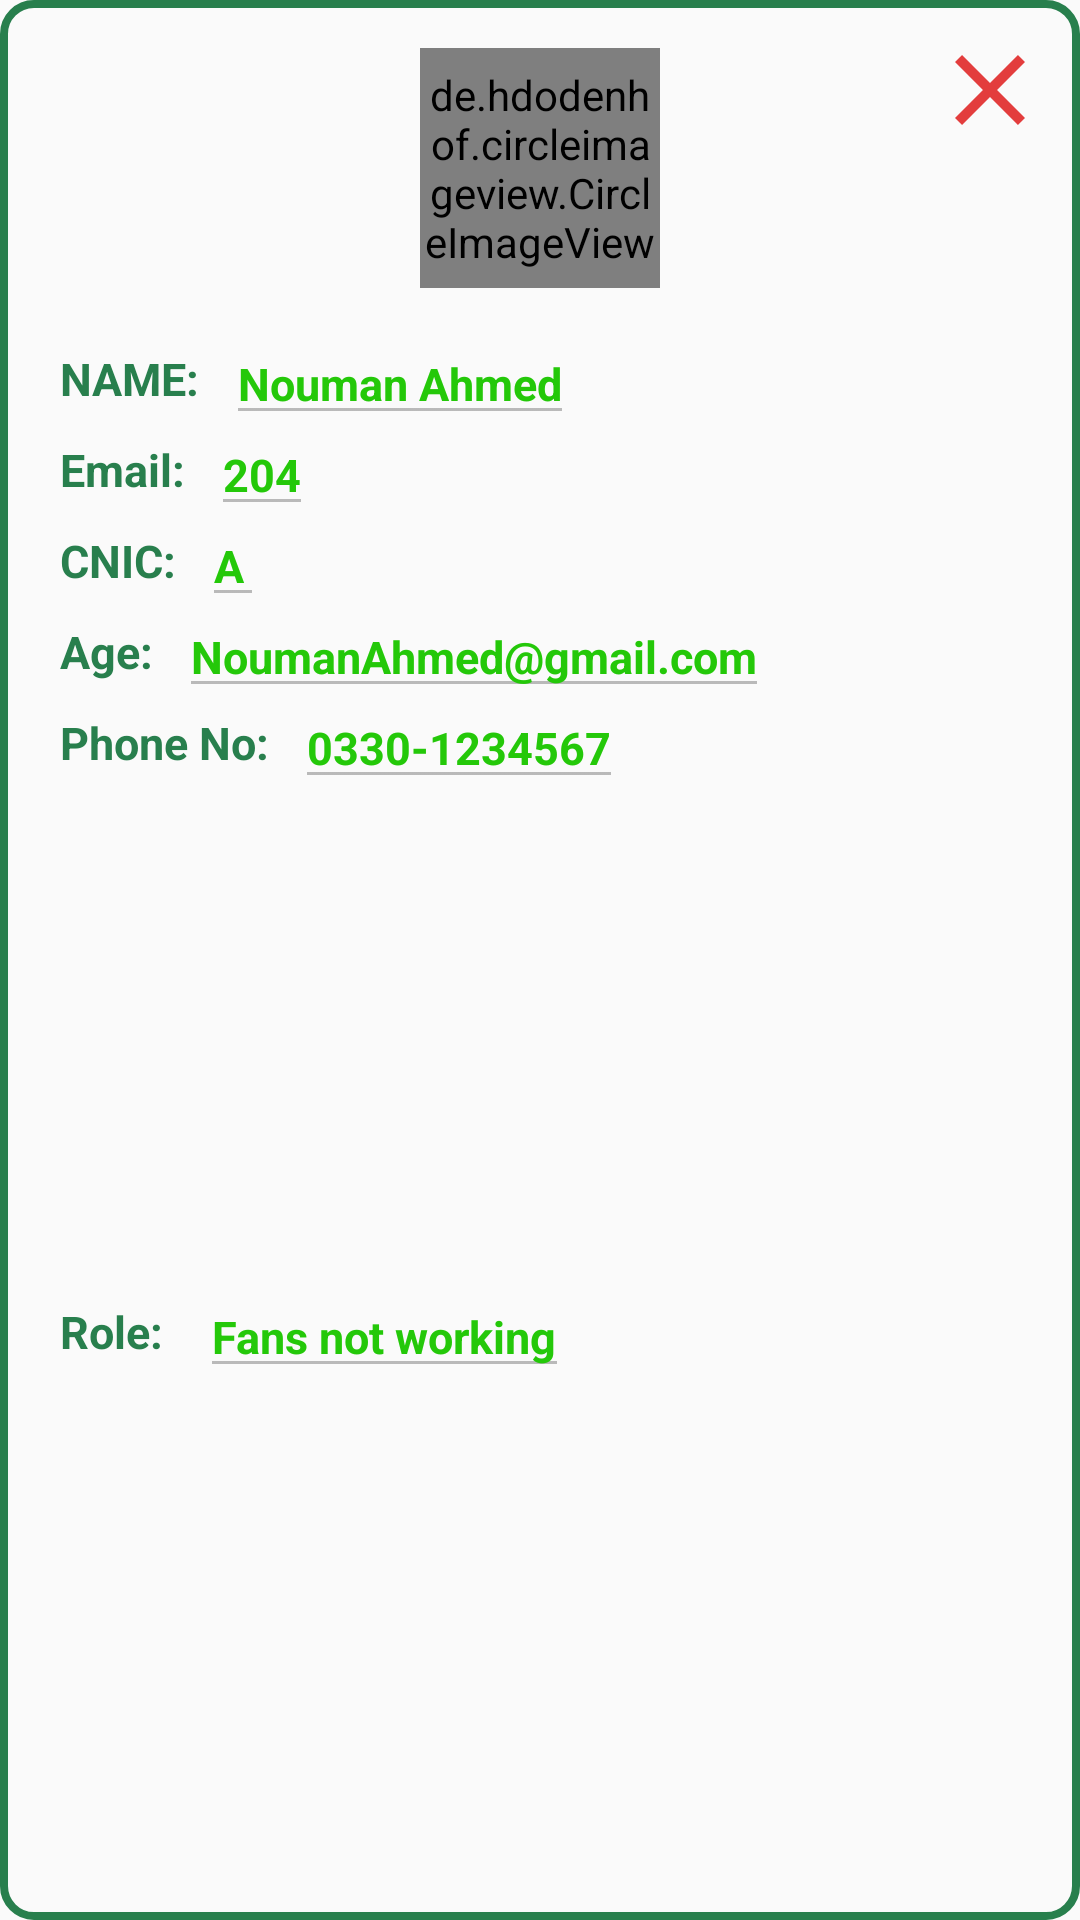

Where to tap for icons on this 1080*1920 app screen, as point (x, y):
close: point (990, 90)
